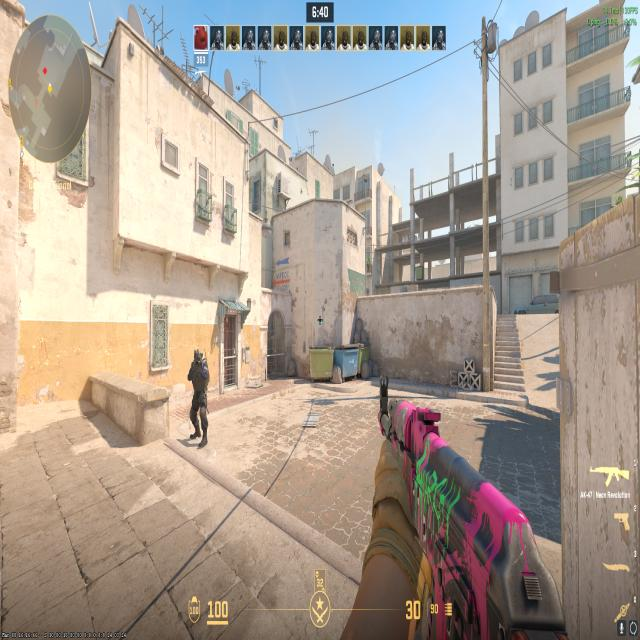ct: (184, 347, 212, 452)
